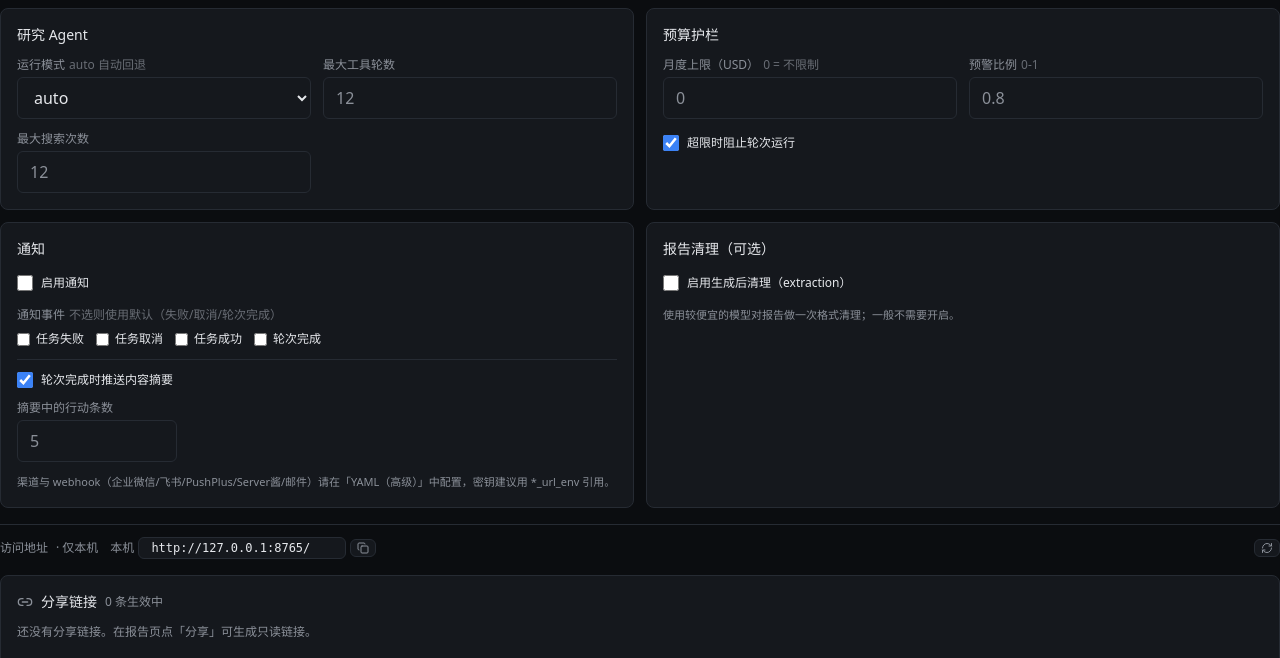
Test: Settings access card › tells the user a restart is needed after switching LAN on
(page scrolled)
Check: the field showing "http://127.0.0.1:8765/" is shown, box top-left (138, 536), bottom-right (346, 558)
Click the text "访问地址" at x=24, y=548, box top-left (0, 540), bottom-right (48, 556)
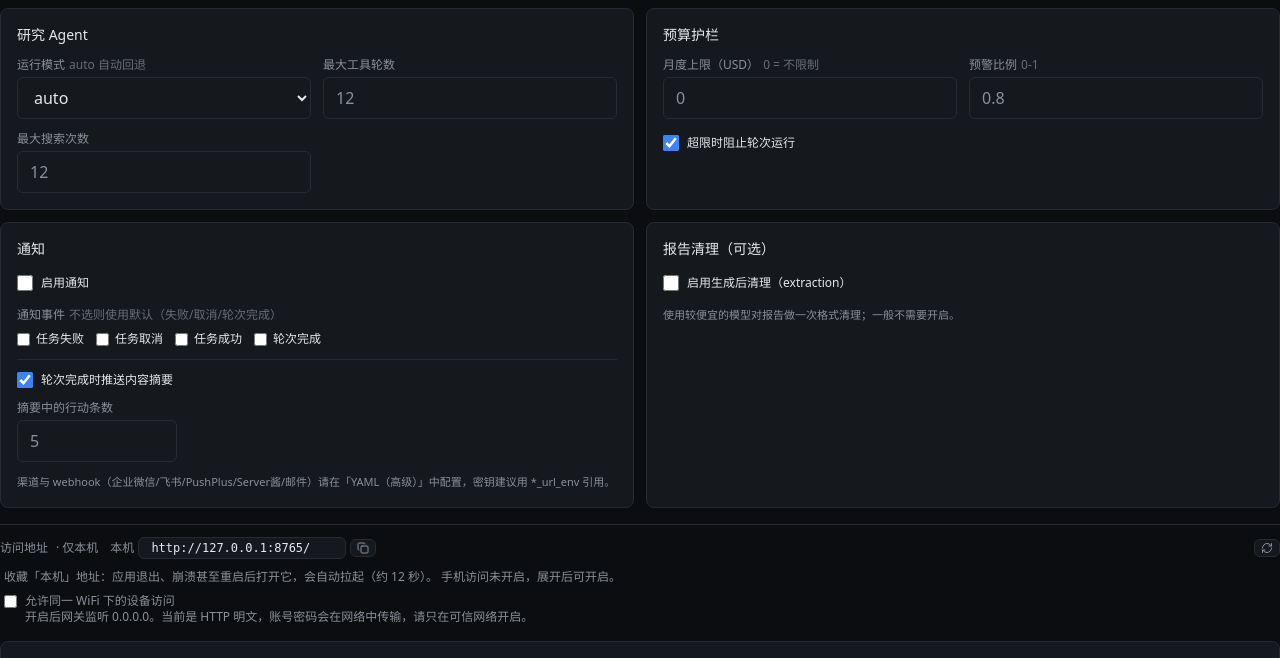
Click the checkbox labelled "允许同一 WiFi 下的设备访问" at x=10, y=601, box top-left (4, 594), bottom-right (17, 608)
(page scrolled)
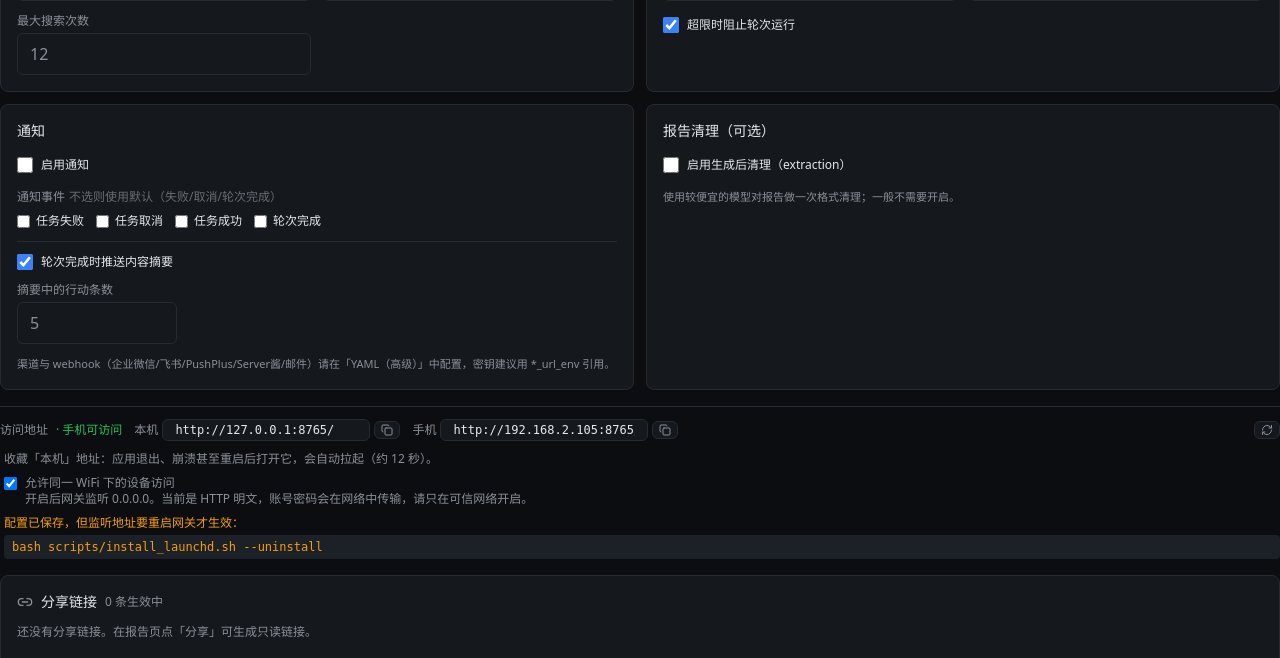
Check: the text "配置已保存，但监听地址要重启网关才生效：" is shown, box top-left (4, 514), bottom-right (244, 530)
Check: the text "bash scripts/install_launchd.sh --uninstall" is shown, box top-left (4, 534), bottom-right (1279, 558)
